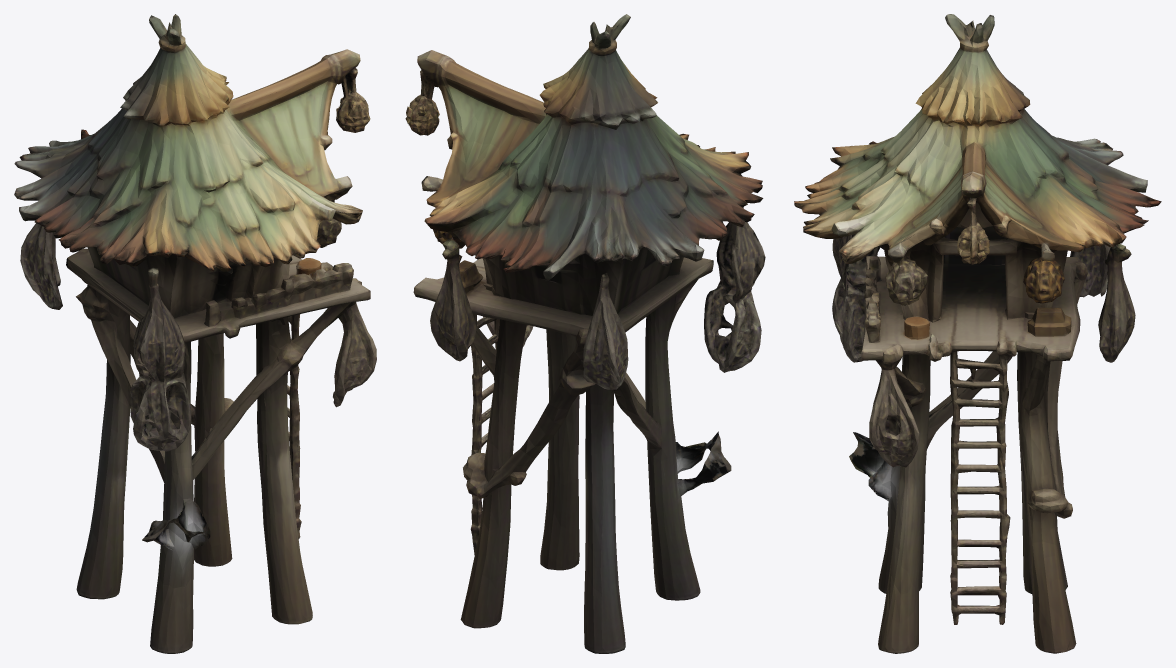
The model's file is stilt_hut.glb.
3 renders of one model, left to right at view 1: azimuth 30°, elevation 25°; view 2: azimuth 150°, elevation 25°; view 3: azimuth 270°, elevation 25°, orthographic.
Parts seen in each view (by area): view 1: geometry_0; view 2: geometry_0; view 3: geometry_0.
Boxes of the visible parts, x1,y1,x2,y2 form: geometry_0: (14,14,376,653); geometry_0: (405,14,765,653); geometry_0: (794,14,1161,653).
Size of the model in its own units: 0.5817 by 1 by 0.569.
Materials: 1 (1 with a texture image).
